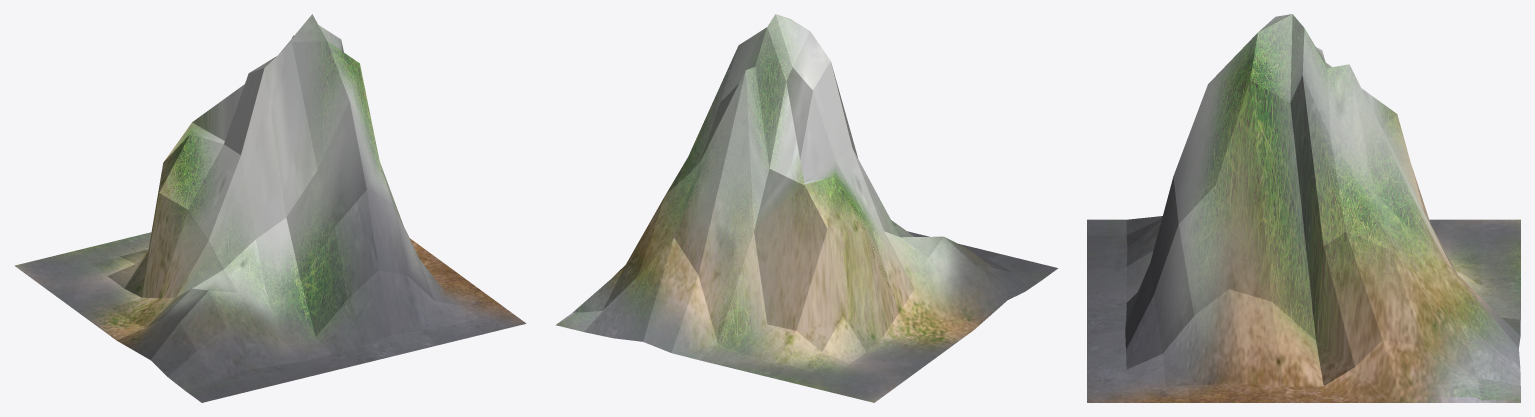
3 renders of one model, left to right at view 1: azimuth 30°, elevation 25°; view 2: azimuth 150°, elevation 25°; view 3: azimuth 270°, elevation 25°, orthographic. The views are drawn at different scales.
Parts seen in each view (by area): view 1: Plane; view 2: Plane; view 3: Plane.
Boxes of the visible parts, x1,y1,x2,y2 form: Plane: [14, 14, 526, 402]; Plane: [555, 14, 1057, 402]; Plane: [1087, 14, 1520, 402].
Bounding box in the file's own units: 2 × 1.62 × 2.
Materials: 1 (1 with a texture image).
